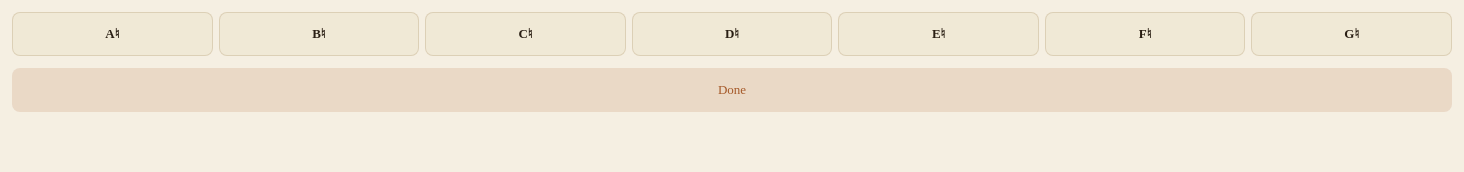
Test: AccidentalSlots › cycles a slot ♮ → ♯ → ♭ → 𝄪 → 𝄫 → ♮ on successive taps (W7-11)
Note: Slot C: natural → sharp → flat (unchanged first three steps).
Click the button "C♮" at (525, 34), box [425,12,626,56]
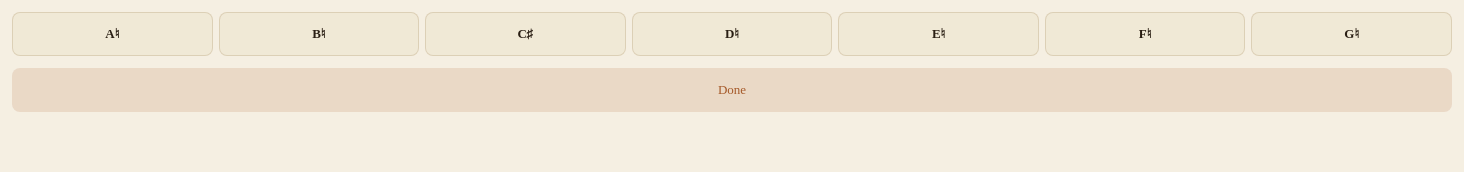
Now the button "C♯" is shown
Click the button "C♯" at (525, 34), box [425,12,626,56]
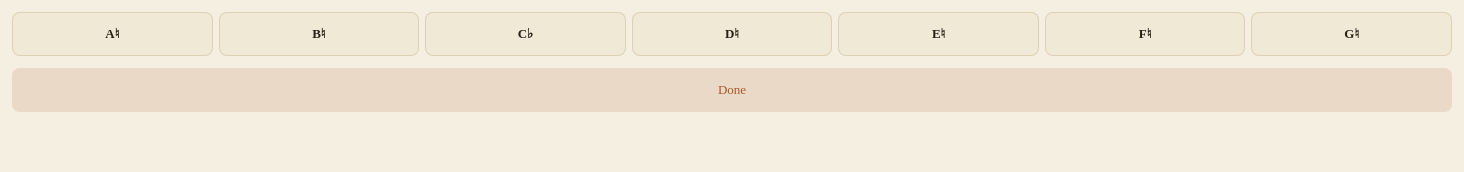
Now the button "C♭" is shown
Note: flat → double sharp → double flat → natural.
Click the button "C♭" at (525, 34), box [425,12,626,56]
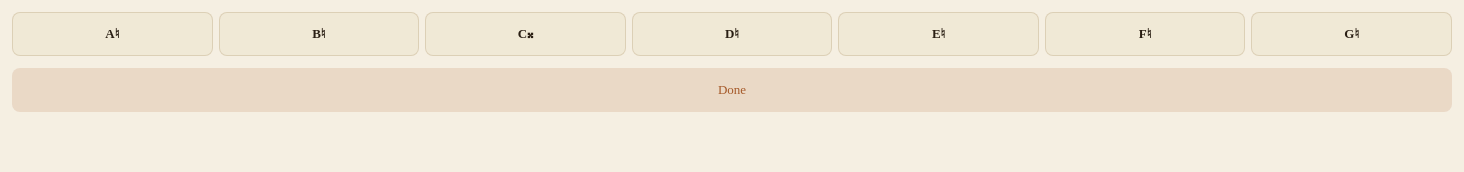
Now the button "C𝄪" is shown
Click the button "C𝄪" at (525, 34), box [425,12,626,56]
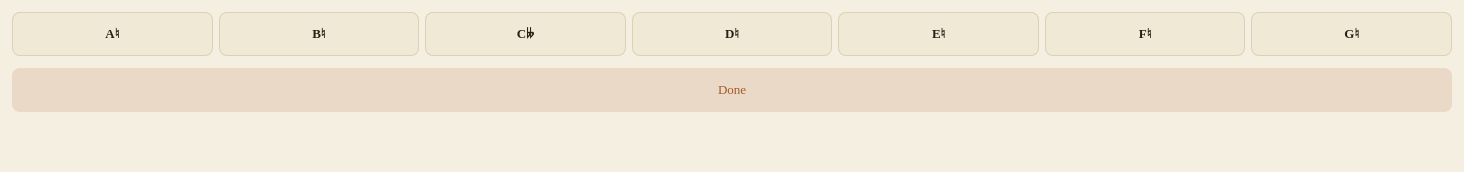
Now the button "C𝄫" is shown
Click the button "C𝄫" at (525, 34), box [425,12,626,56]
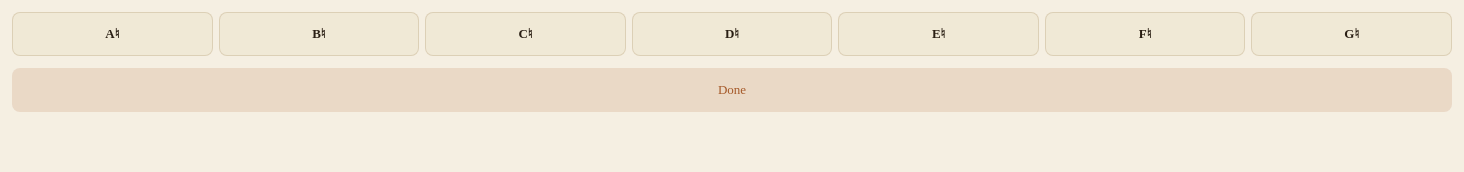
Now the button "C♮" is shown, box [425,12,626,56]
